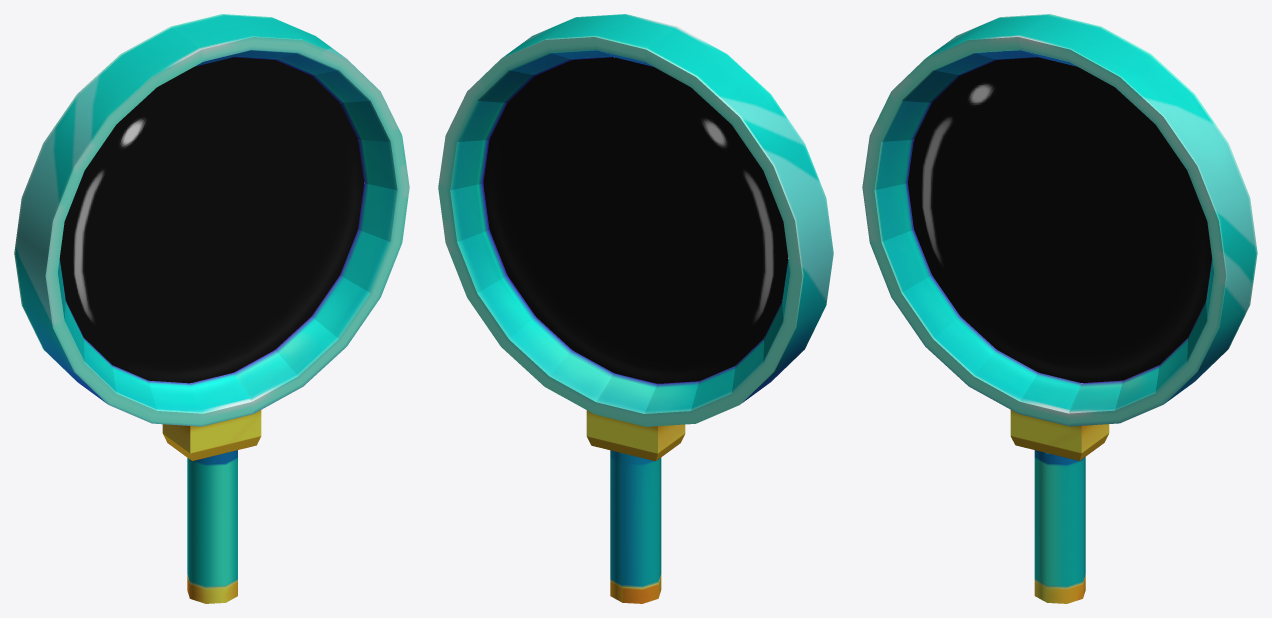
The model's file is magnifier.FBX.
The picture shows the model from 3 angles, left to right: view 1: azimuth 30°, elevation 25°; view 2: azimuth 150°, elevation 25°; view 3: azimuth 330°, elevation 25°; orthographic projection.
Parts seen in each view (by area): view 1: magnifier_002, magnifier_001; view 2: magnifier_002, magnifier_001; view 3: magnifier_002, magnifier_001.
Boxes of the visible parts, <box> form: magnifier_002: <box>60,57,363,383</box>; magnifier_001: <box>14,14,409,603</box>; magnifier_002: <box>483,57,788,383</box>; magnifier_001: <box>438,14,833,603</box>; magnifier_002: <box>908,57,1211,382</box>; magnifier_001: <box>862,14,1257,603</box>.
Bounding box in the file's own units: 70.02 × 103 × 10.44.
Materials: 2 (2 with a texture image).
